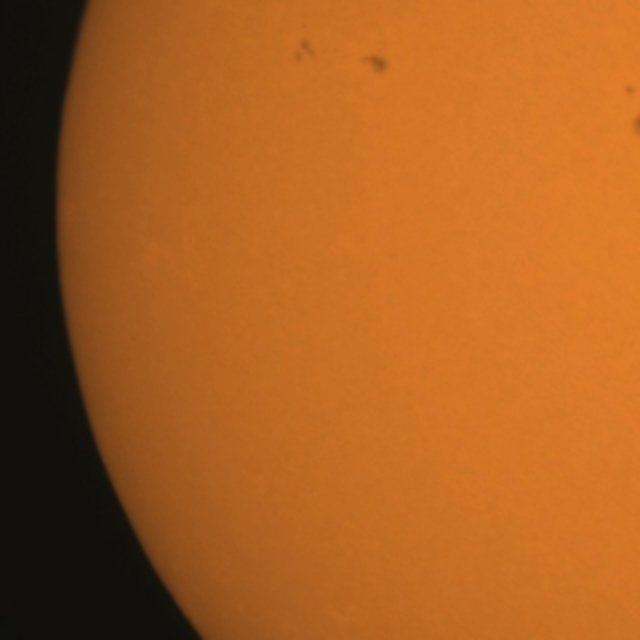sunspot: (290, 32, 317, 65), (360, 52, 392, 78), (622, 83, 639, 99)
